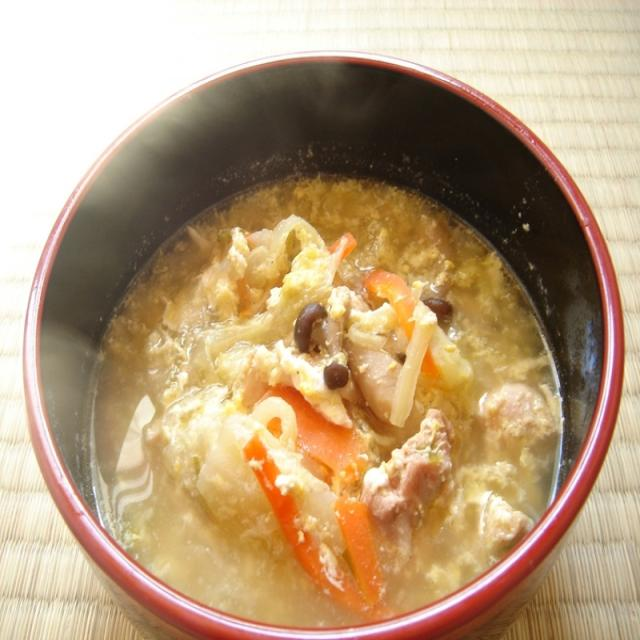汤锅炖物: (24, 43, 625, 640)
